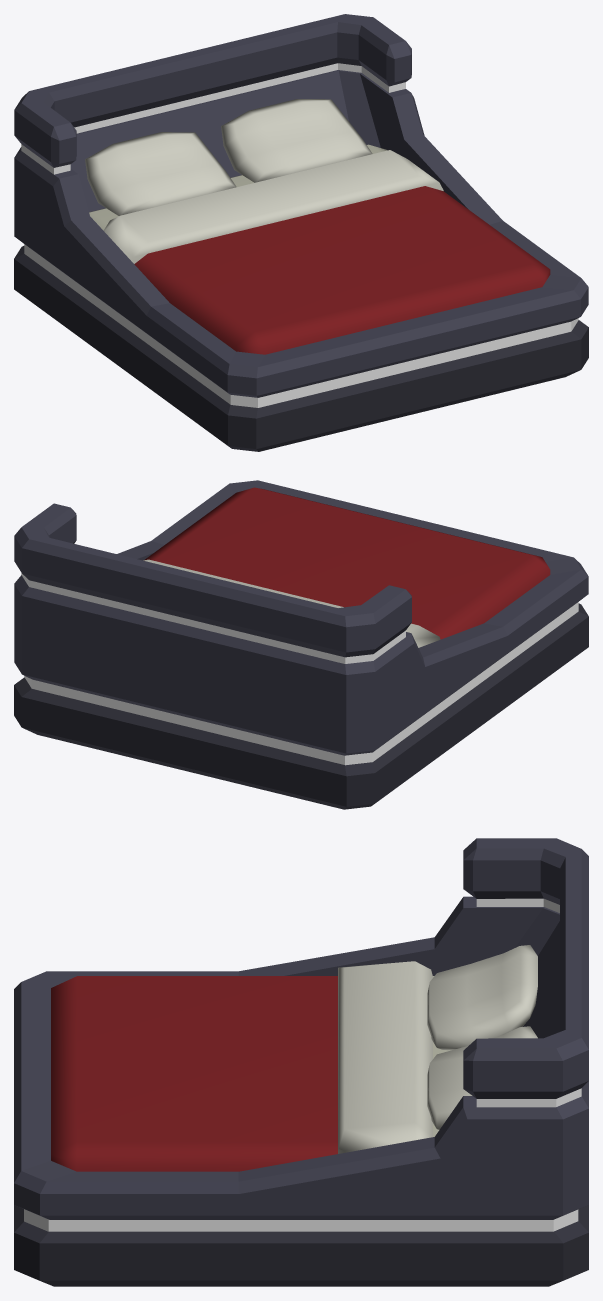
Rendered from Double Bed 01.fbx.
3 renders of one model, top to bottom at view 1: azimuth 30°, elevation 25°; view 2: azimuth 150°, elevation 25°; view 3: azimuth 270°, elevation 25°, orthographic. The views are drawn at different scales.
Visible parts, largest first — view 1: Double_Bed_01; view 2: Double_Bed_01; view 3: Double_Bed_01.
Boxes of the visible parts, x1,y1,x2,y2 form: Double_Bed_01: [14, 14, 588, 451]; Double_Bed_01: [14, 480, 588, 809]; Double_Bed_01: [14, 838, 588, 1286].
Size of the model in its own units: 238 by 124 by 268.
